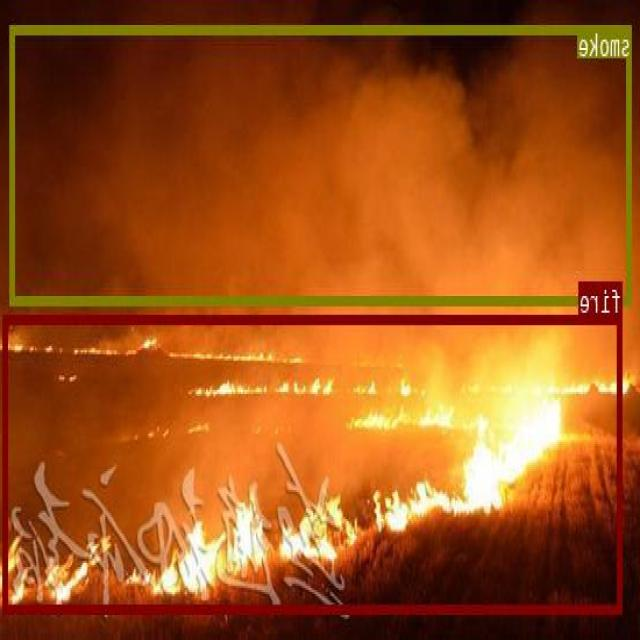fire: (5, 313, 623, 611)
smoke: (11, 24, 632, 302)
